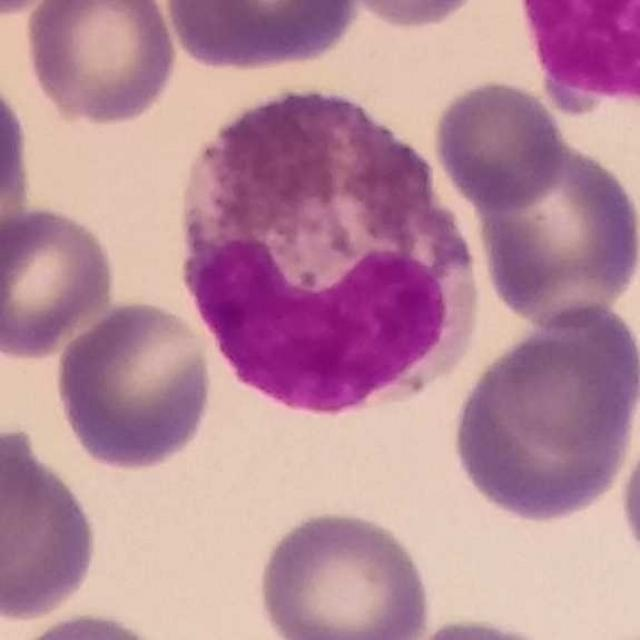eosino: (175, 85, 485, 423)
